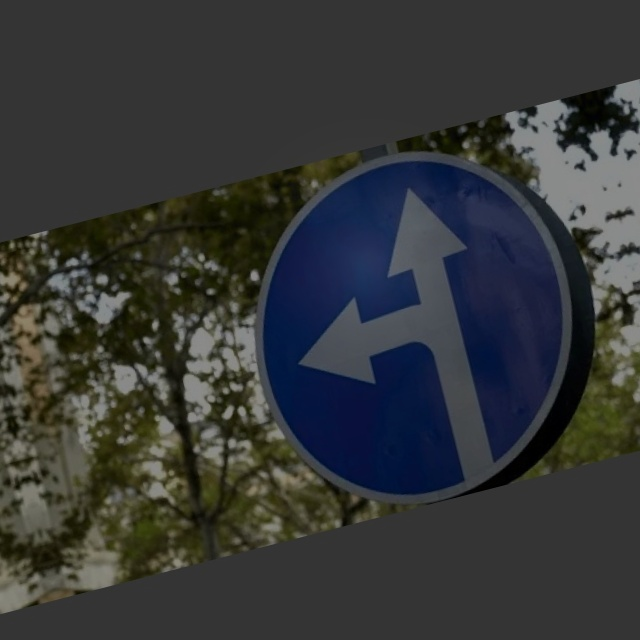Compulsory_Ahead_or_Turn_Left: (217, 117, 630, 526)
